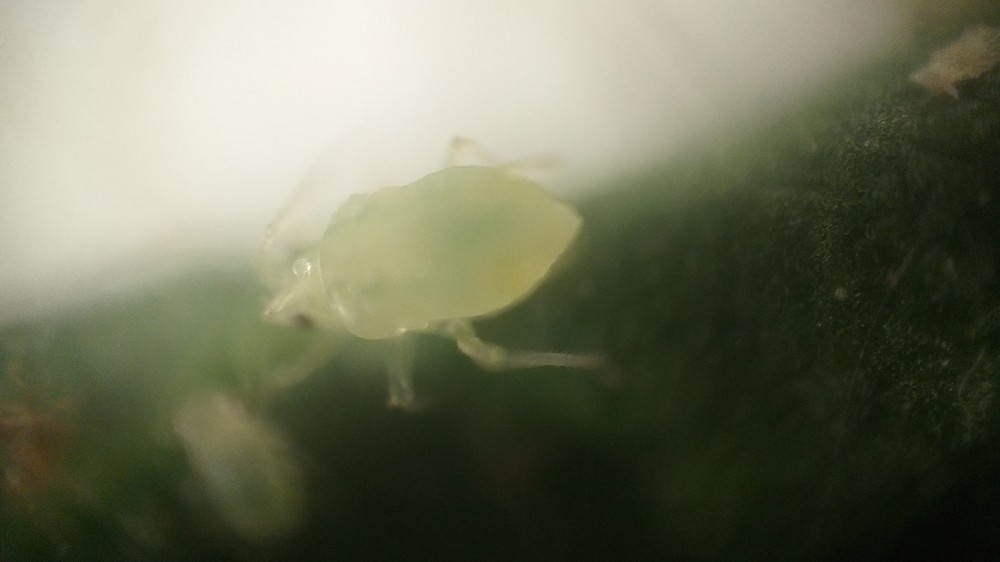Pulgon: (212, 115, 638, 425)
